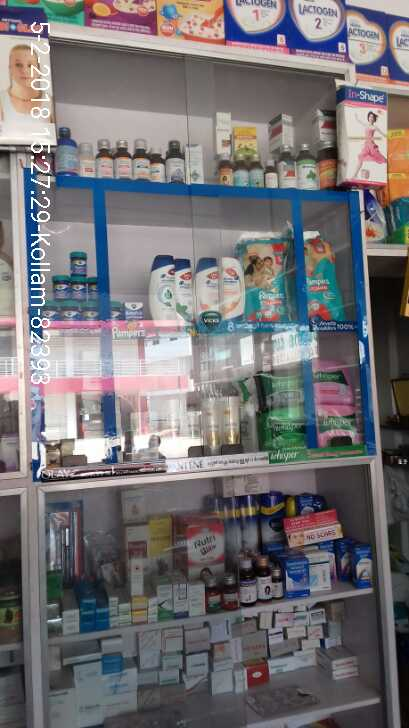vicks: (44, 251, 146, 321)
